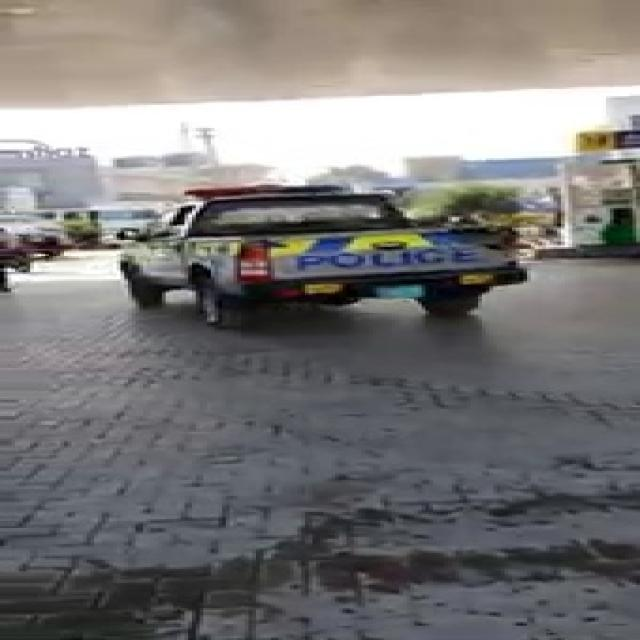police: (98, 184, 566, 327)
